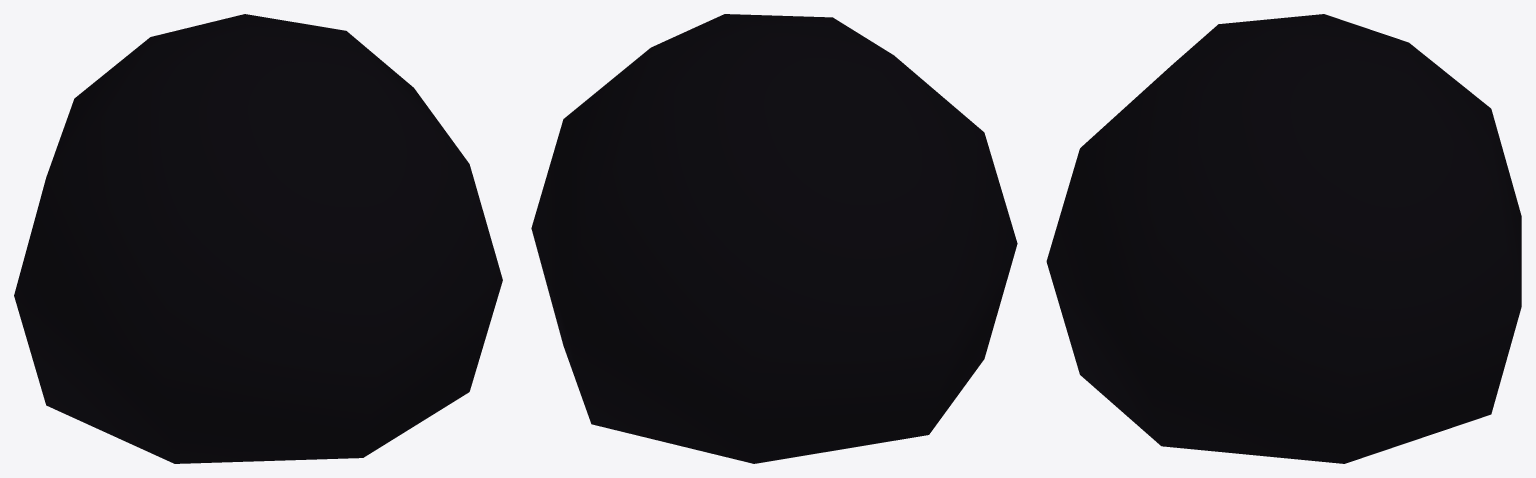
Rendered from tron.glb.
3 renders of one model, left to right at view 1: azimuth 30°, elevation 25°; view 2: azimuth 150°, elevation 25°; view 3: azimuth 270°, elevation 25°, orthographic.
Parts seen in each view (by area): view 1: Sphere; view 2: Sphere; view 3: Sphere.
Boxes of the visible parts, x1,y1,x2,y2 form: Sphere: [14, 14, 502, 463]; Sphere: [531, 14, 1017, 463]; Sphere: [1046, 14, 1521, 463].
Bounding box in the file's own units: 279 × 254 × 272.
Materials: 2 (2 with a texture image).
